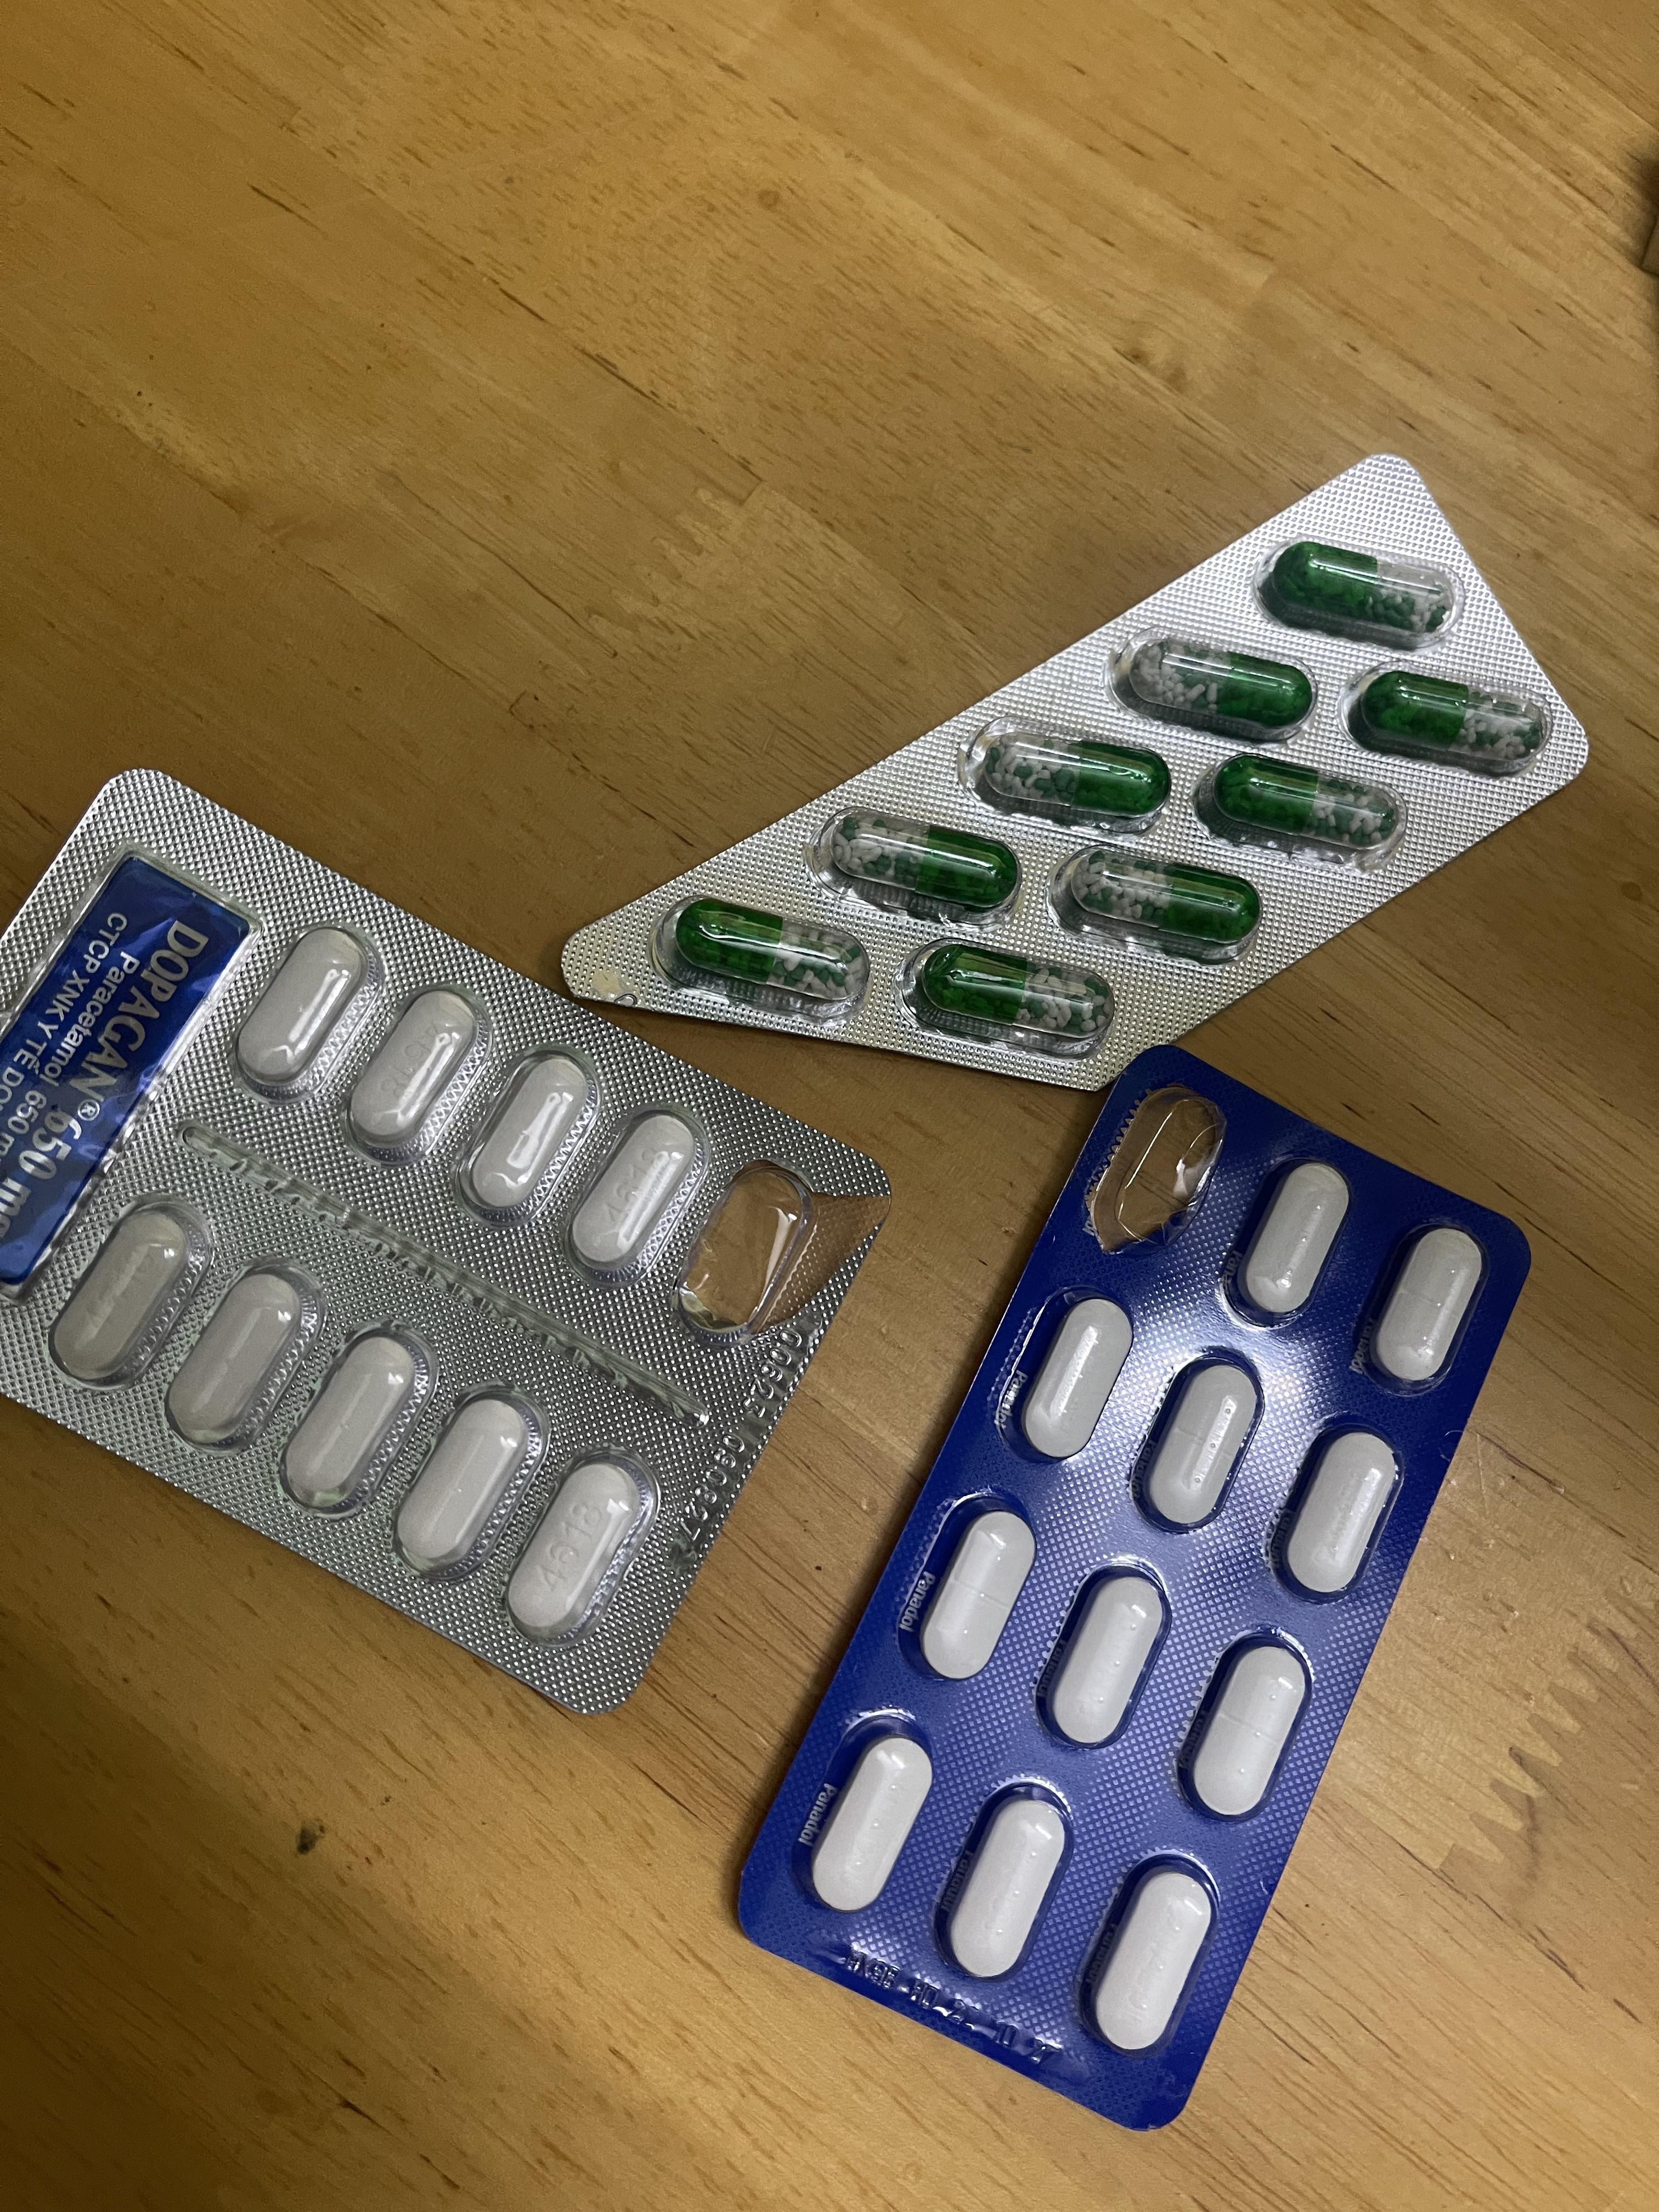Paracetamol_350mg: (1082, 1862, 1216, 2057), (941, 1791, 1070, 1986), (1039, 1564, 1171, 1752), (1185, 1632, 1314, 1820), (809, 1730, 936, 1919), (1134, 1353, 1265, 1536), (1274, 1426, 1405, 1604), (918, 1508, 1039, 1684), (1366, 1224, 1490, 1390), (1234, 1162, 1354, 1324), (1021, 1298, 1136, 1463)
Paracetamol_500mg: (228, 921, 371, 1097), (340, 988, 486, 1158), (559, 1106, 702, 1278), (453, 1050, 594, 1223), (511, 1456, 645, 1637), (396, 1395, 526, 1571), (171, 1270, 301, 1437), (286, 1332, 415, 1500), (54, 1212, 185, 1376)
Paracetamol_650mg: (678, 904, 856, 1000), (1359, 672, 1539, 763), (1274, 545, 1450, 636), (835, 817, 1016, 904), (924, 949, 1100, 1038), (1216, 761, 1392, 850), (1077, 859, 1256, 944), (1129, 644, 1307, 726), (983, 738, 1162, 817)
